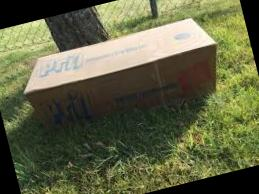Kertas: (24, 19, 214, 129)
